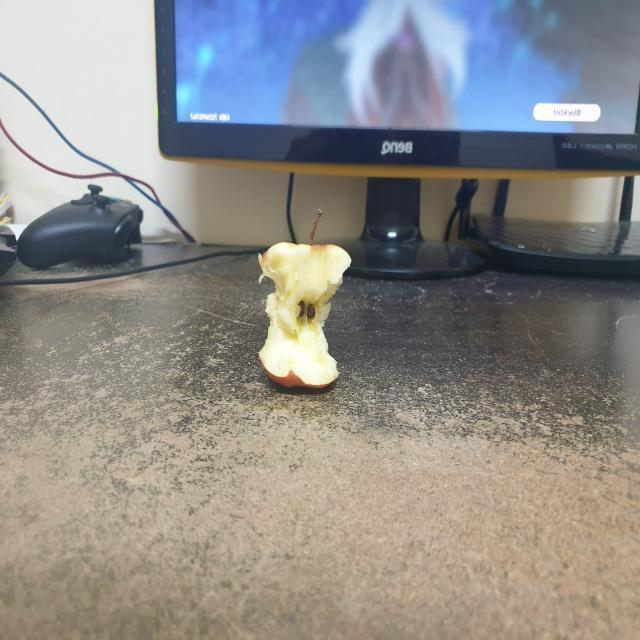apple: (238, 200, 354, 402)
